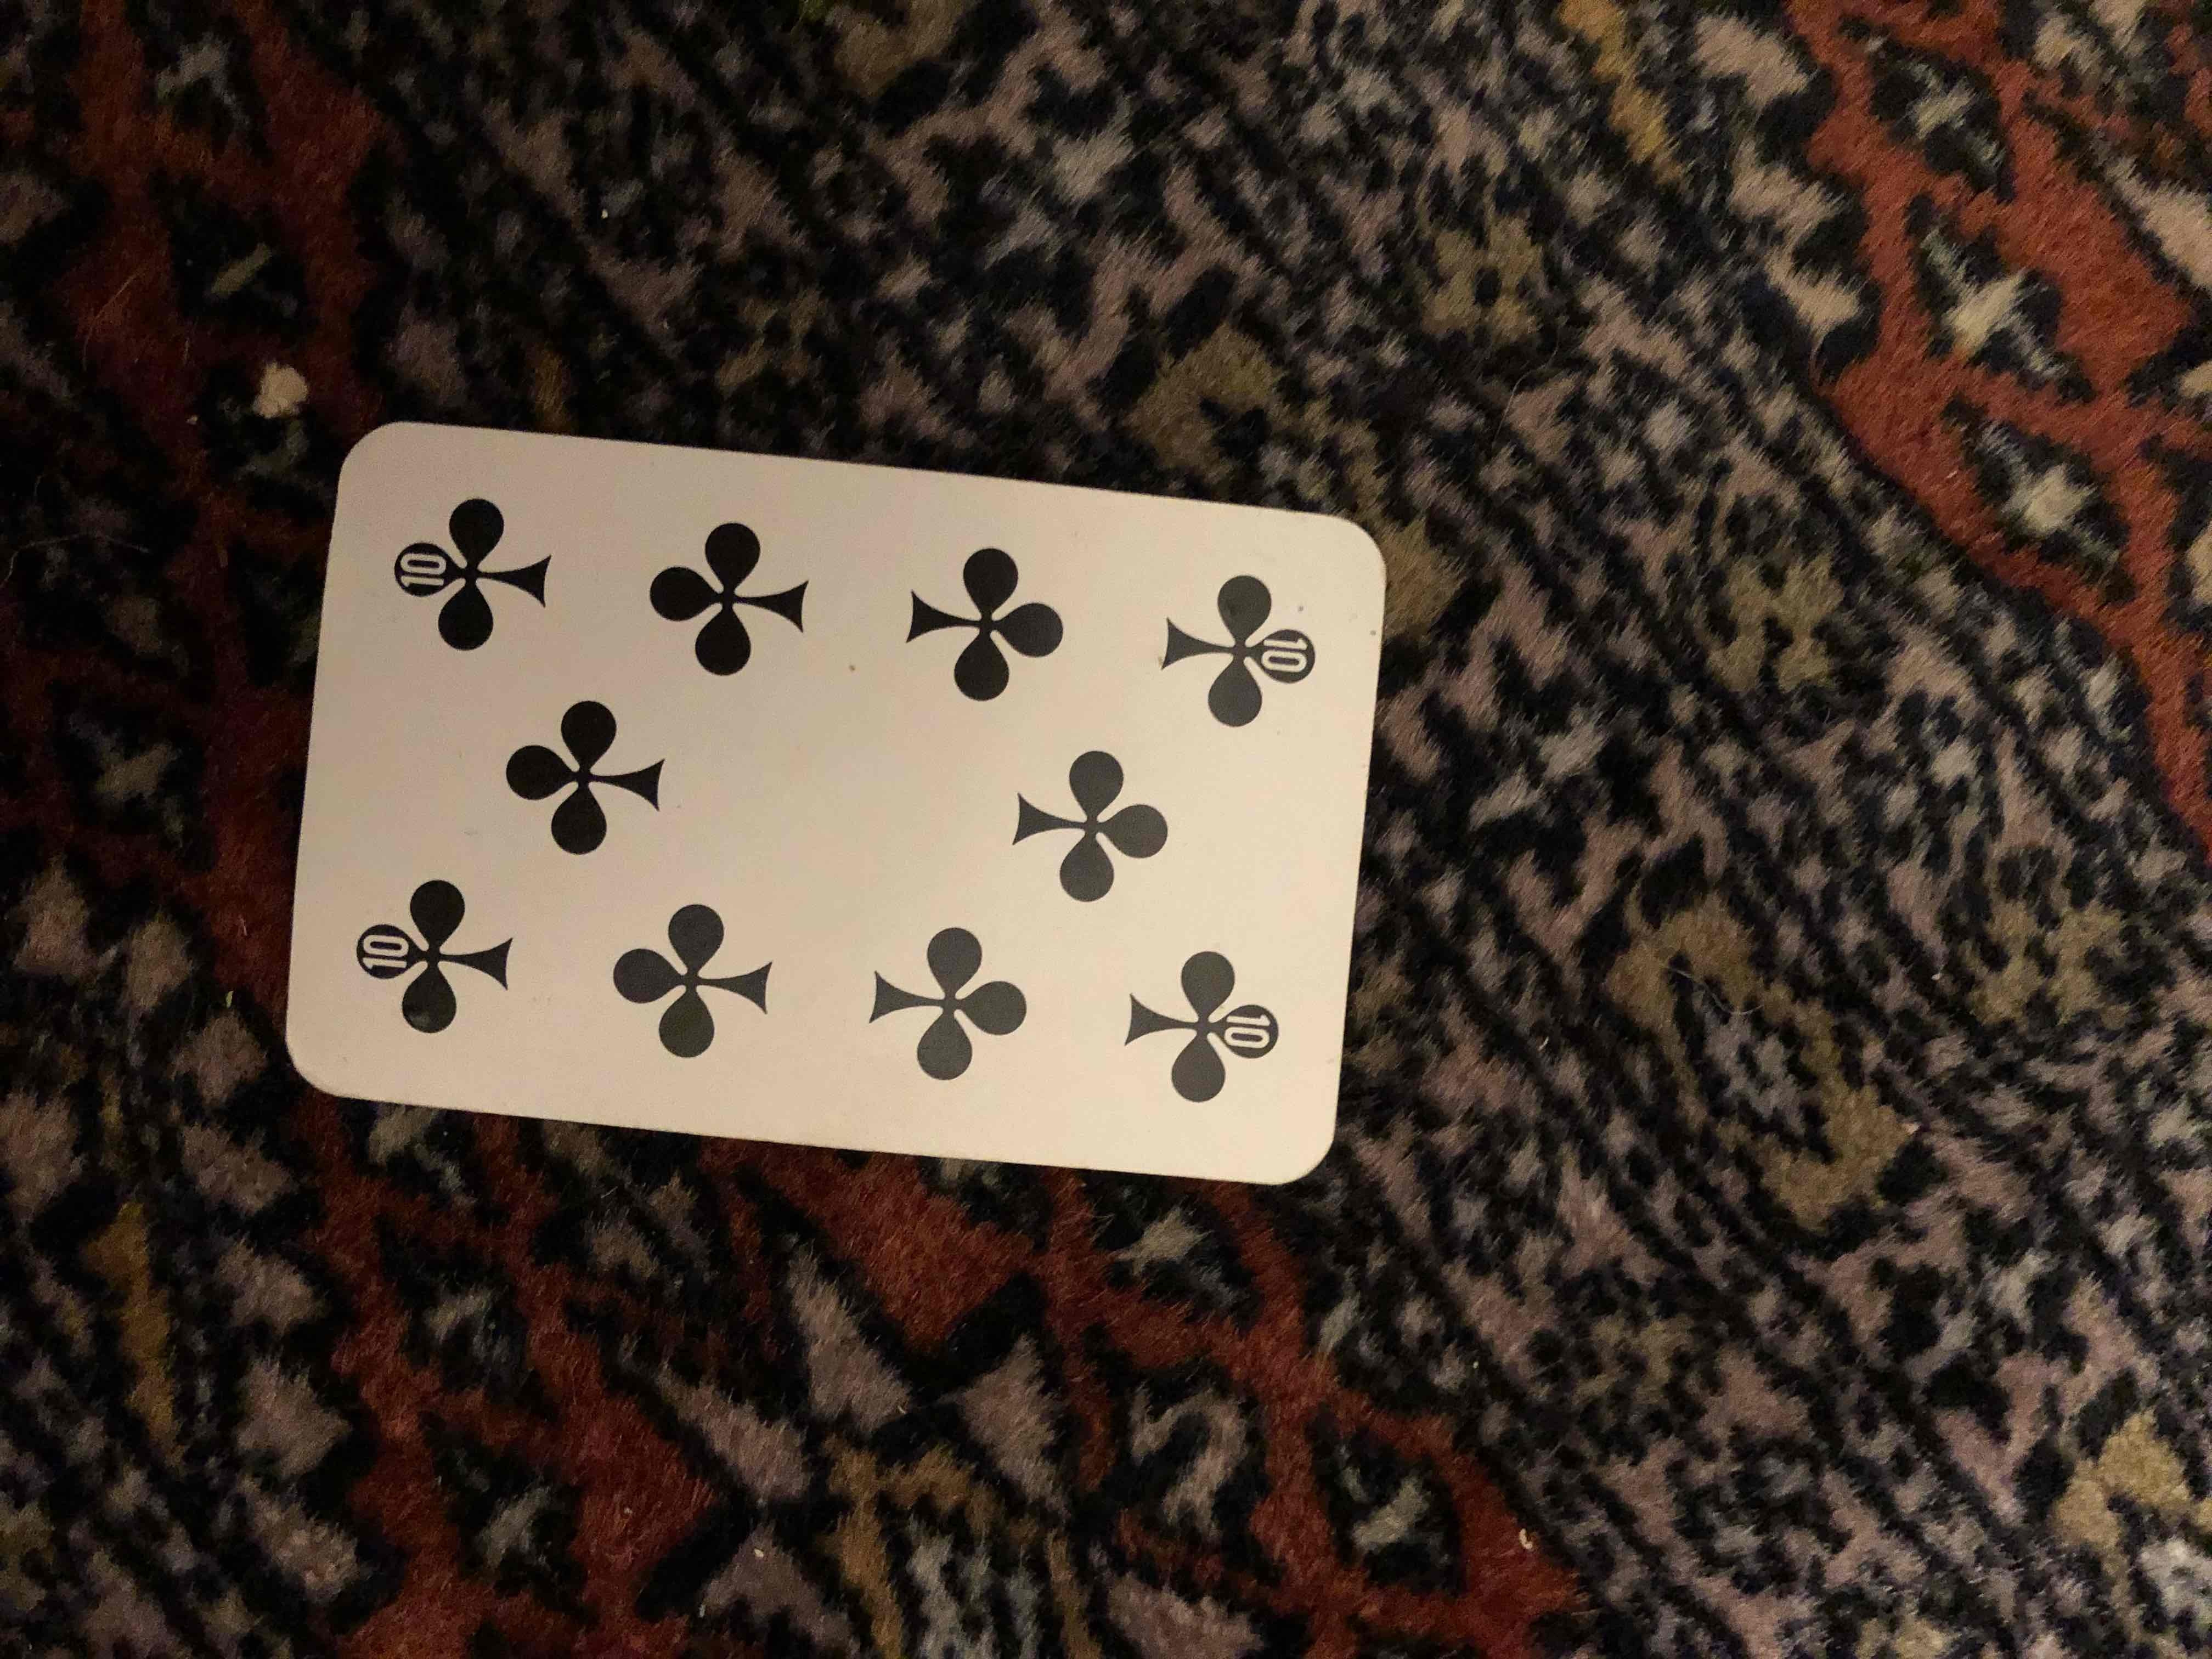clubs10: (322, 403, 1352, 1188)
